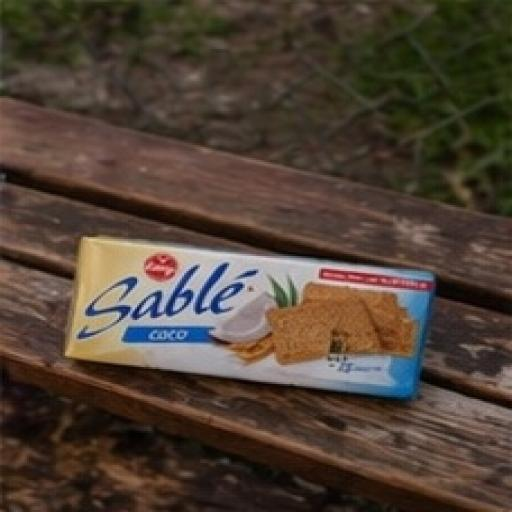sabl: (38, 197, 502, 466)
